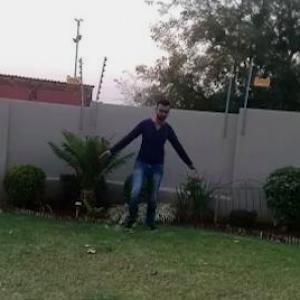land: (95, 97, 208, 246)
